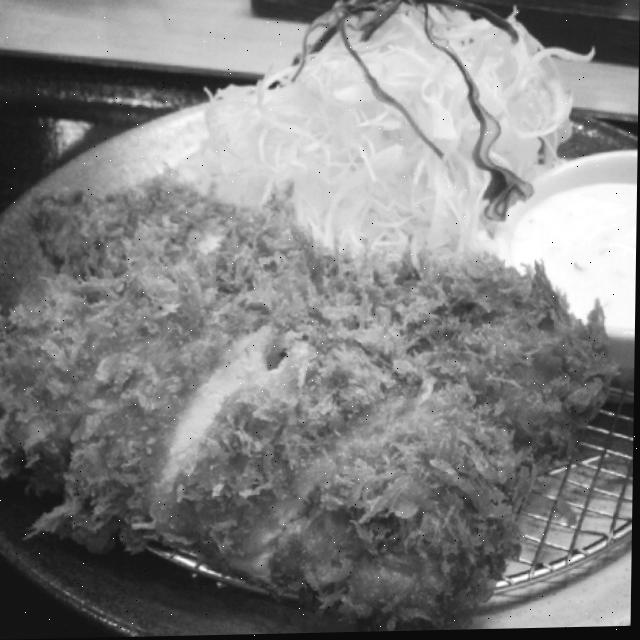鸡肉料理 含炸鸡: (0, 136, 617, 631)
